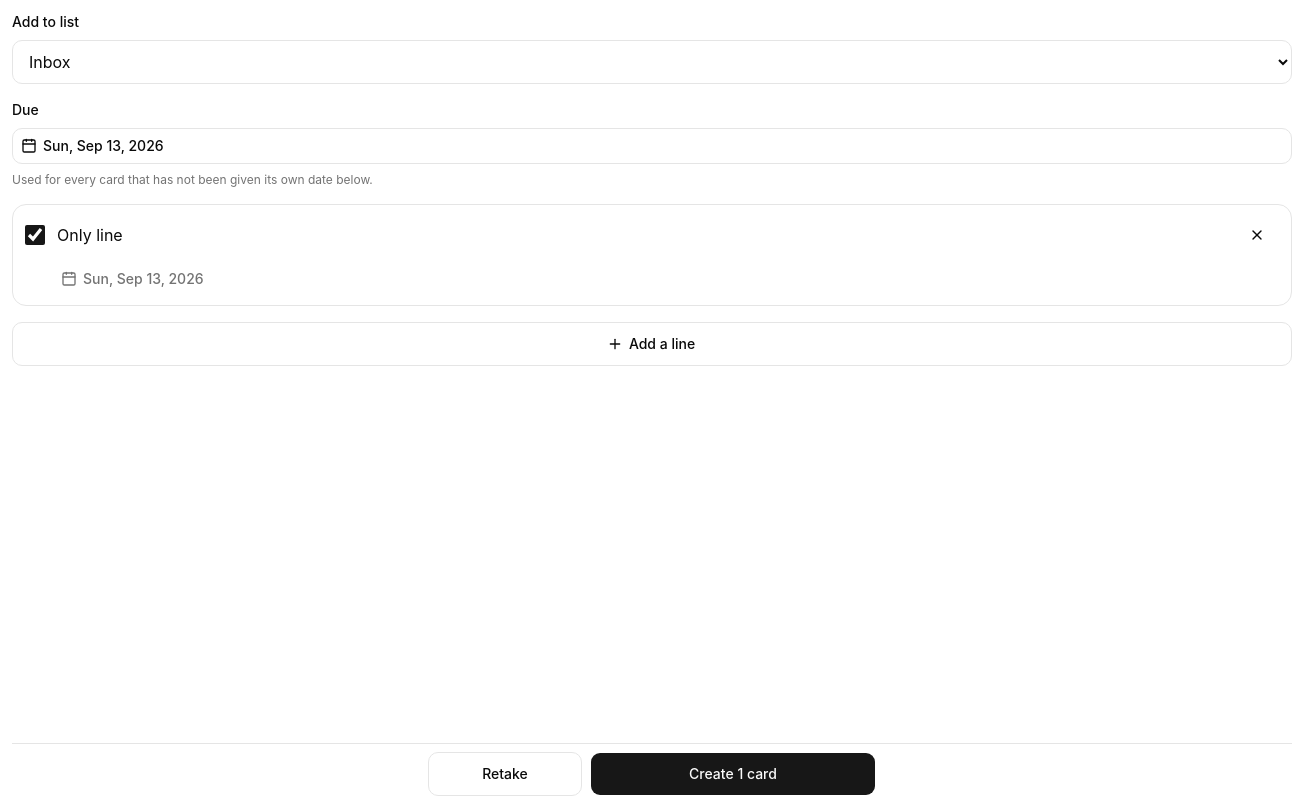
Scenario: CardPreviewList › disables confirm when nothing is selected
Click the checkbox named "Include \"Only line\"" at (35, 235), box [25,225,45,245]
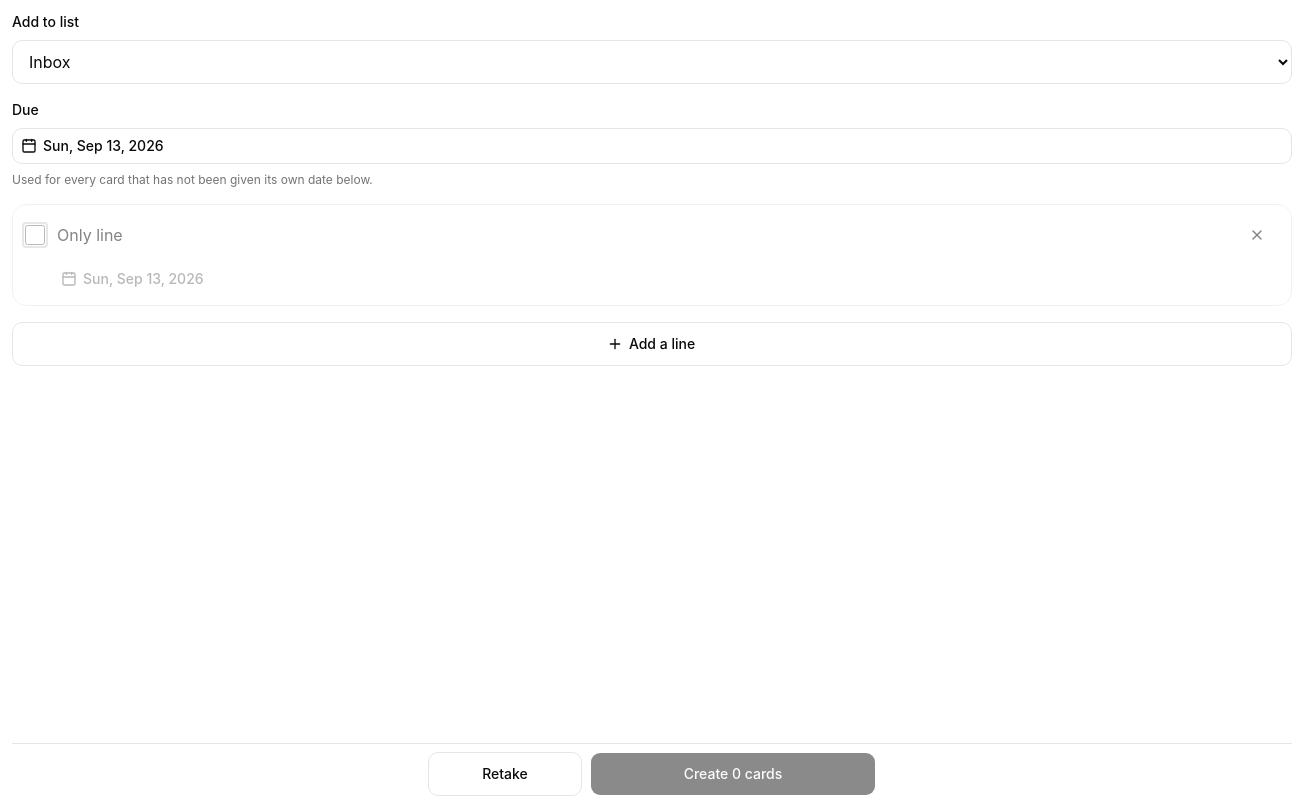
Now the button "Create 0 cards" is disabled, box [590,752,876,796]
